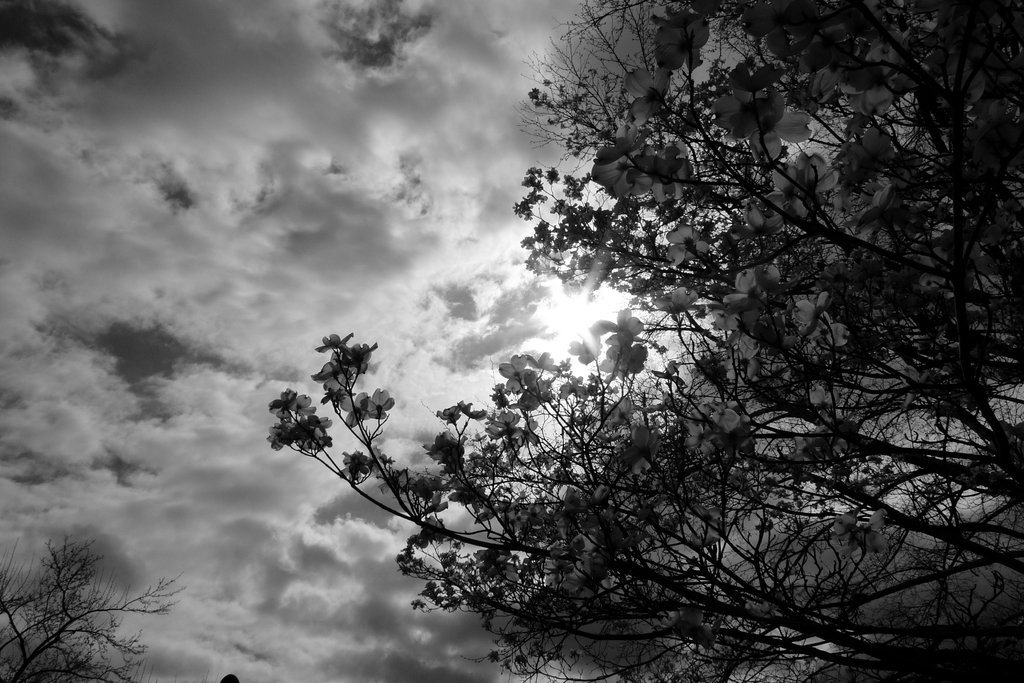Tree: (265, 0, 1014, 682), (0, 525, 190, 682)
